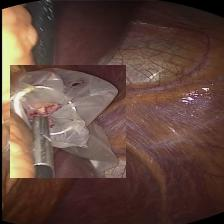Grasper: (26, 74, 56, 136)
Specimen Bag: (9, 65, 125, 178)
